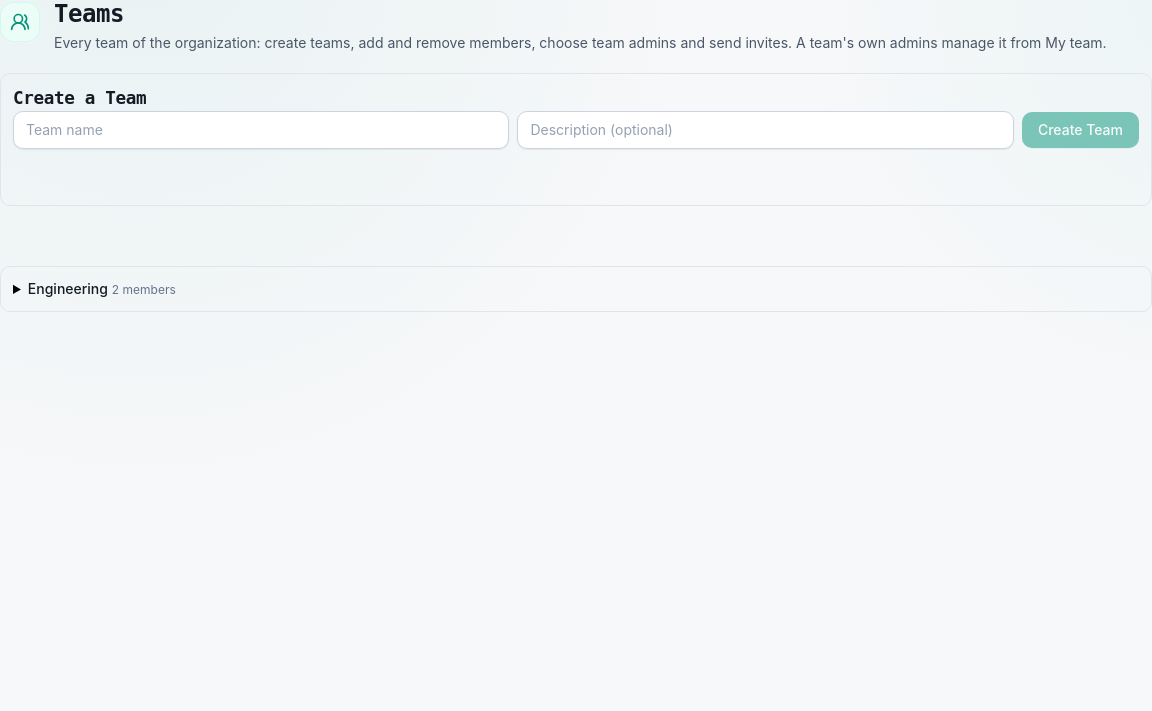
it: TeamsPage › lazily fetches team detail on expand and renders members
Click the text "Engineering": (68, 288) [28,280,108,297]
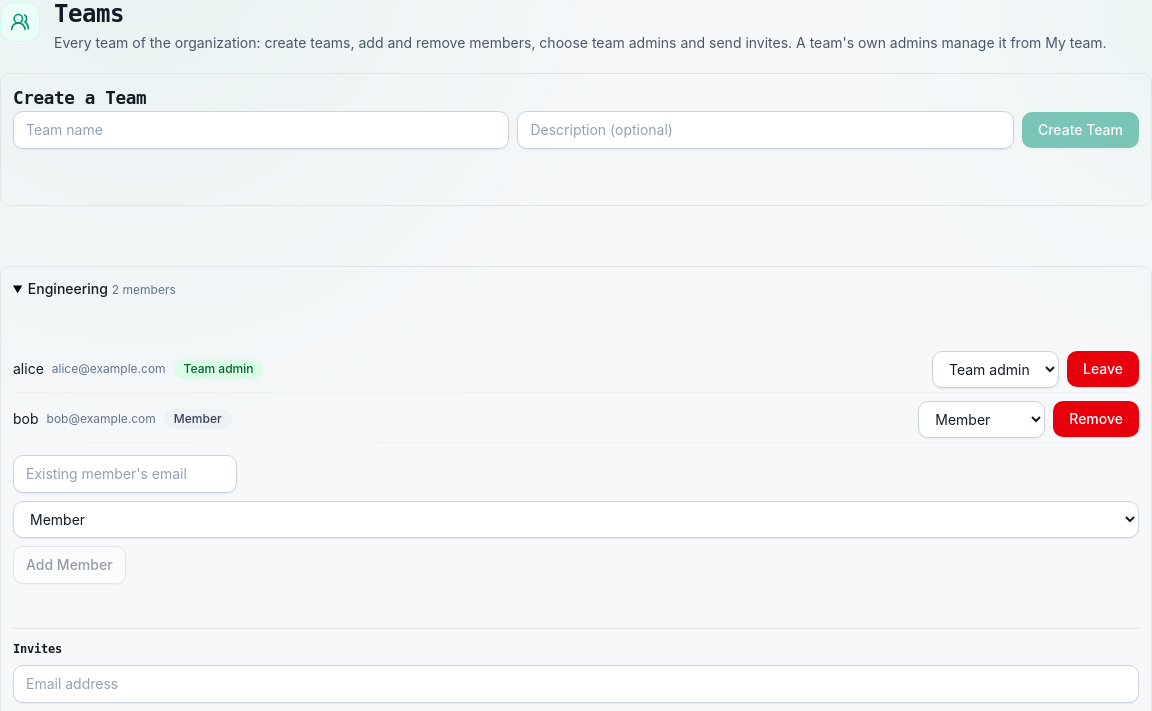
Expected: the text "bob" is shown, [13,409,38,429]
Expected: the text "alice" is shown, [13,359,44,379]
